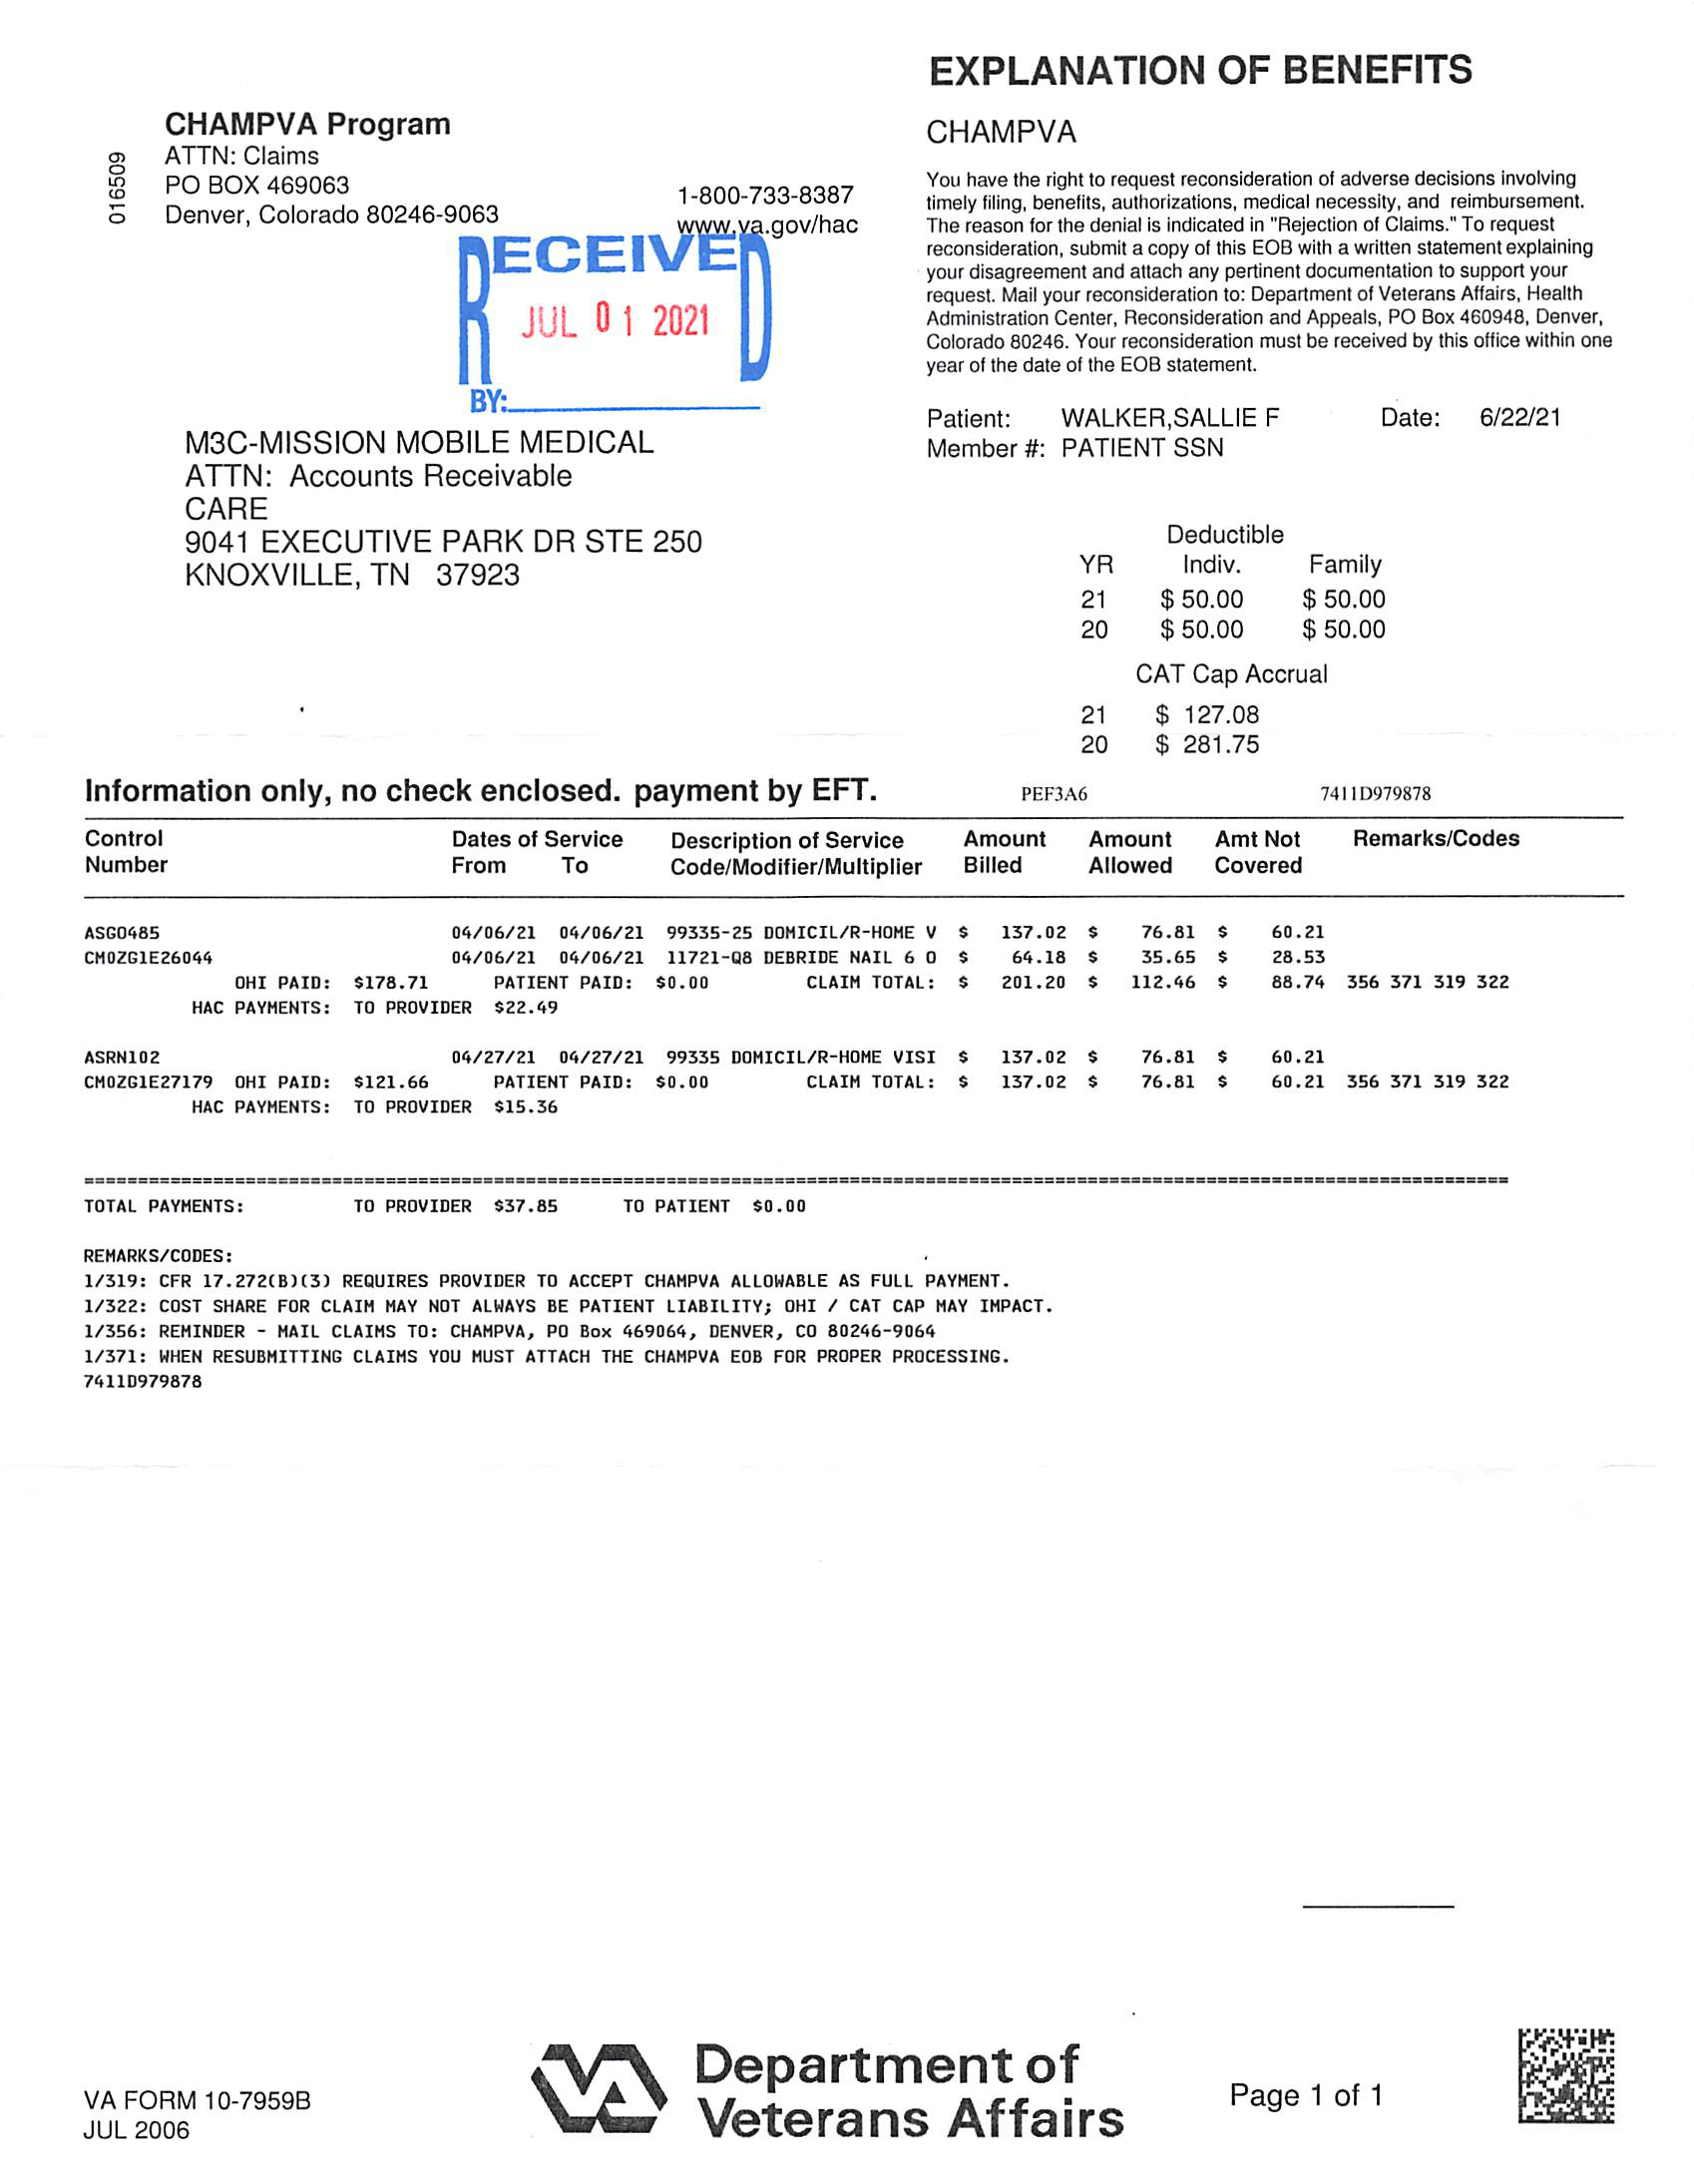table: (71, 798, 1620, 1133), (909, 383, 1299, 466)
